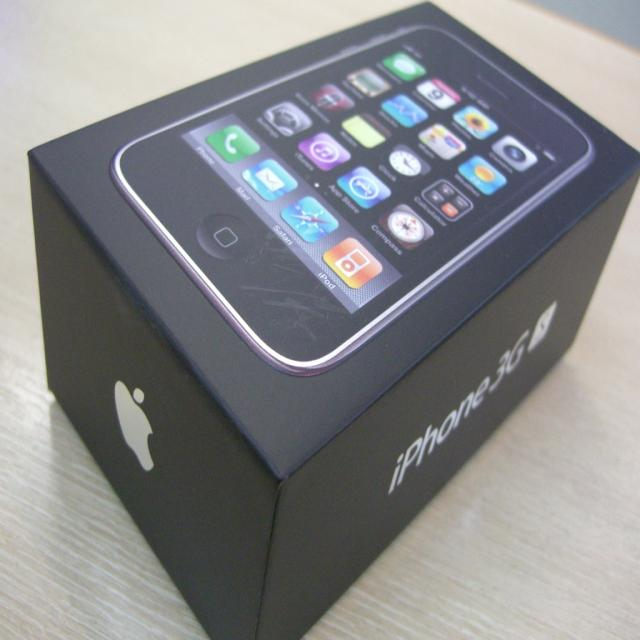Mobile-phone: (86, 15, 622, 423)
